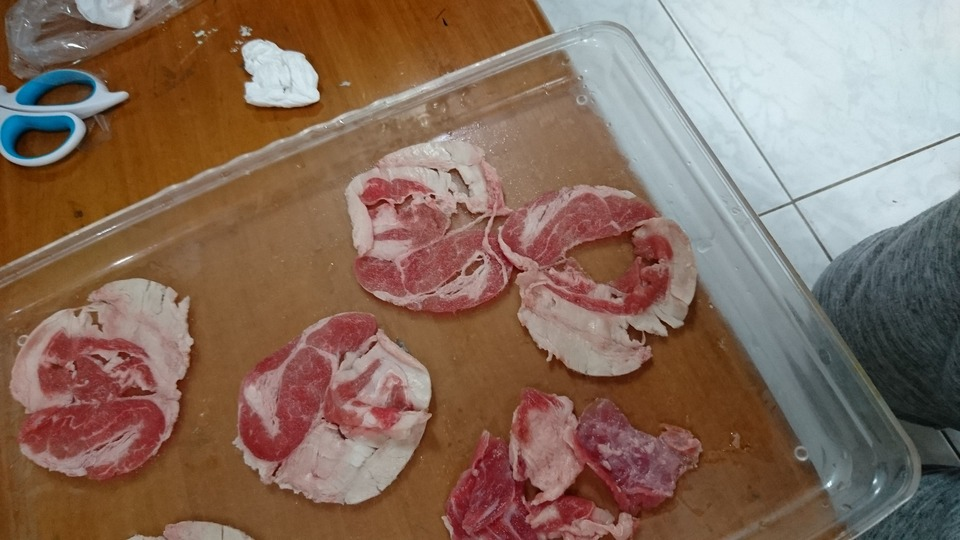restructured meat: (514, 167, 702, 378), (6, 273, 194, 484), (240, 293, 428, 504), (446, 389, 700, 540), (349, 137, 514, 318)
